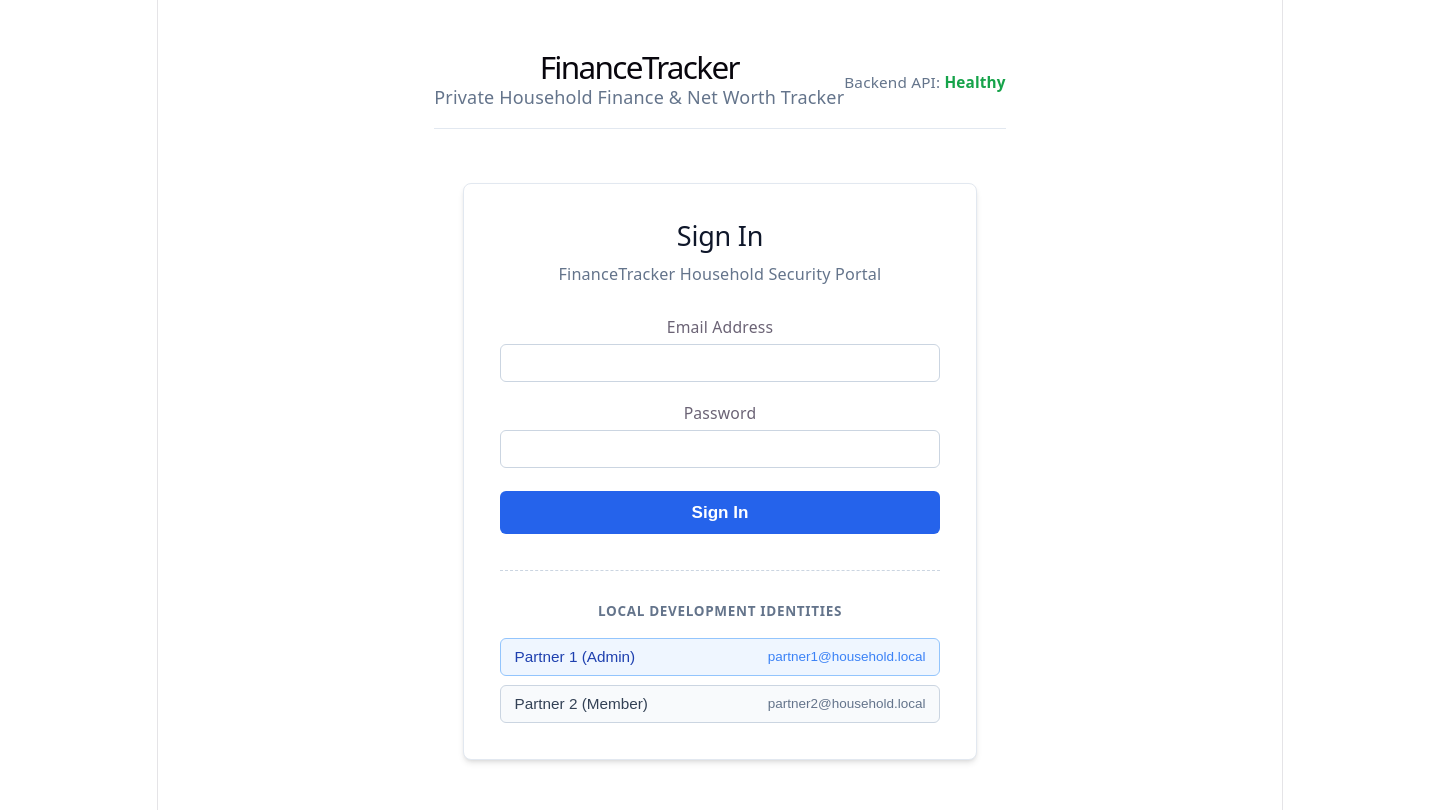
Scenario: App Component › allows logging in with local development test identity and updates user session
Click the button with test id "login-as-partner-1". click: (575, 656)
box: [500,638,940,676]
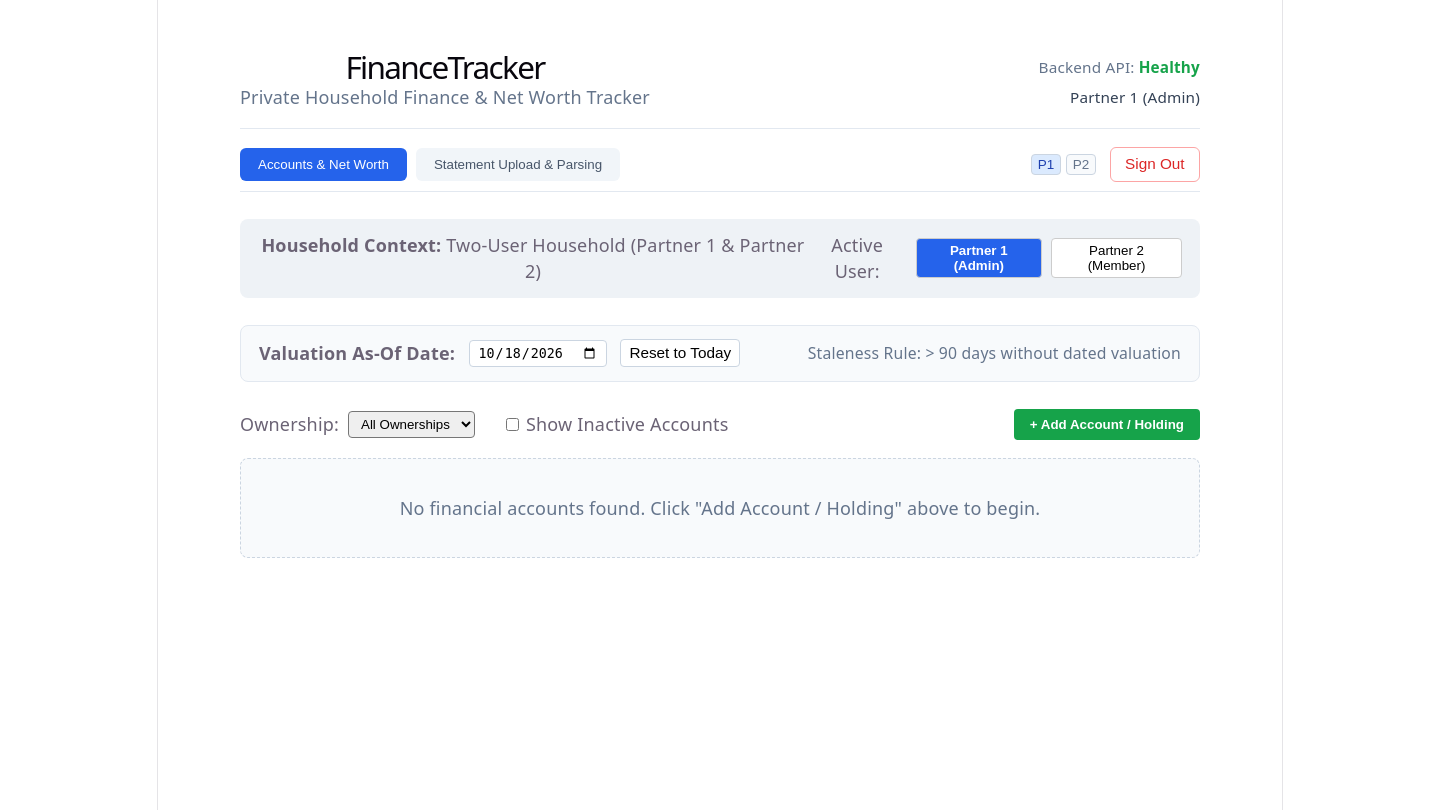
Check: the text with test id "user-identity" reads "Partner 1 (Admin)", box [1070,87,1200,107]
Check: the button with test id "tab-accounts" is shown, box [240,148,407,181]
